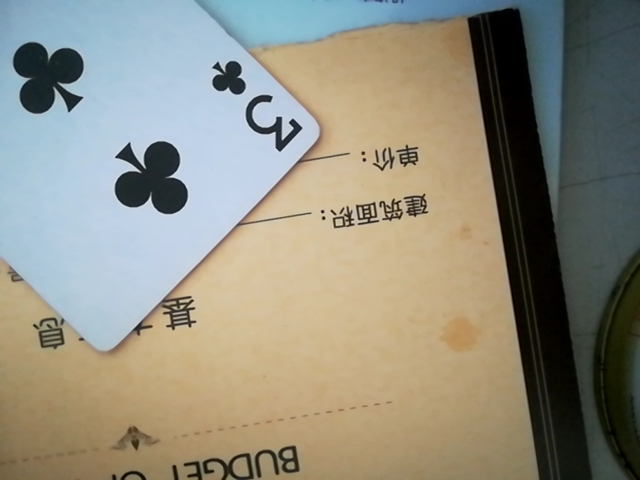mh 3: (0, 0, 321, 357)
